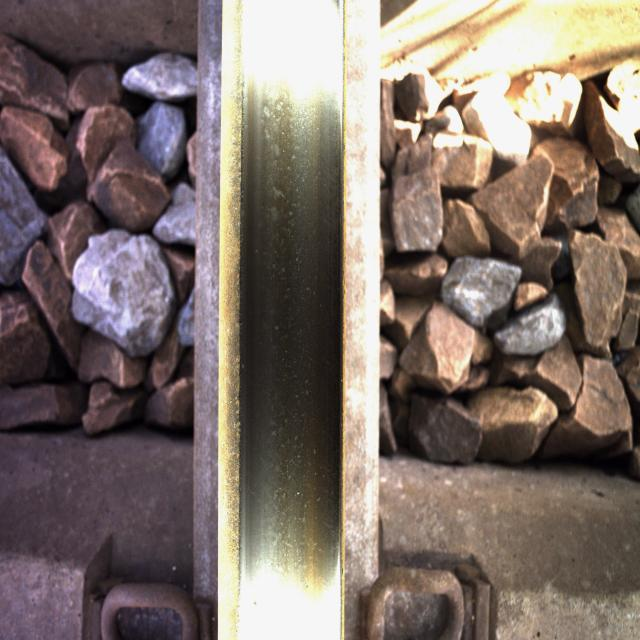normal: (240, 37, 340, 605)
